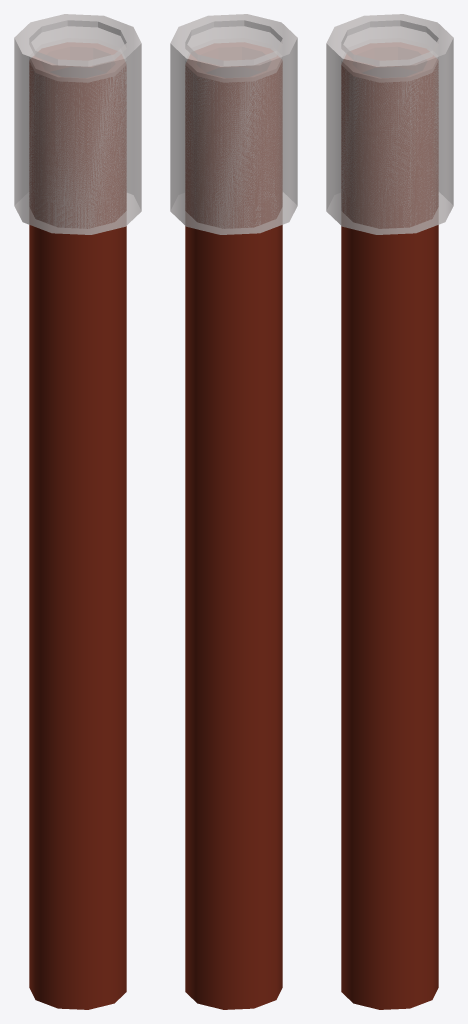
The model's file is flare w cap.fbx.
3 views of the same model, side by side, from view 1: azimuth 30°, elevation 25°; view 2: azimuth 150°, elevation 25°; view 3: azimuth 330°, elevation 25° (orthographic).
Visible parts, largest first — view 1: polySurface1, polySurface2; view 2: polySurface1, polySurface2; view 3: polySurface1, polySurface2.
Part boxes in pixels (left/top/right/bottom): polySurface1: left=29, top=43, right=126, bottom=1009; polySurface2: left=14, top=14, right=141, bottom=234; polySurface1: left=185, top=43, right=282, bottom=1009; polySurface2: left=170, top=14, right=297, bottom=234; polySurface1: left=341, top=43, right=438, bottom=1009; polySurface2: left=326, top=14, right=453, bottom=234.
Size of the model in its own units: 2.61 by 21.34 by 2.48.
